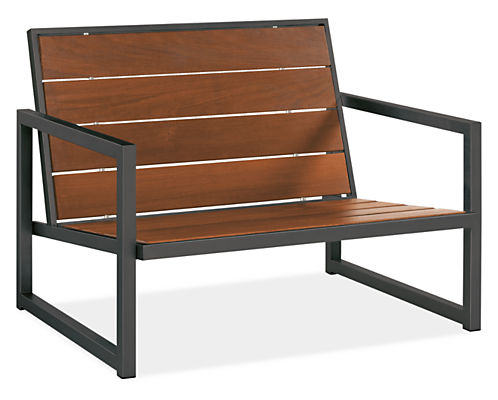chairs: (5, 17, 498, 380)
